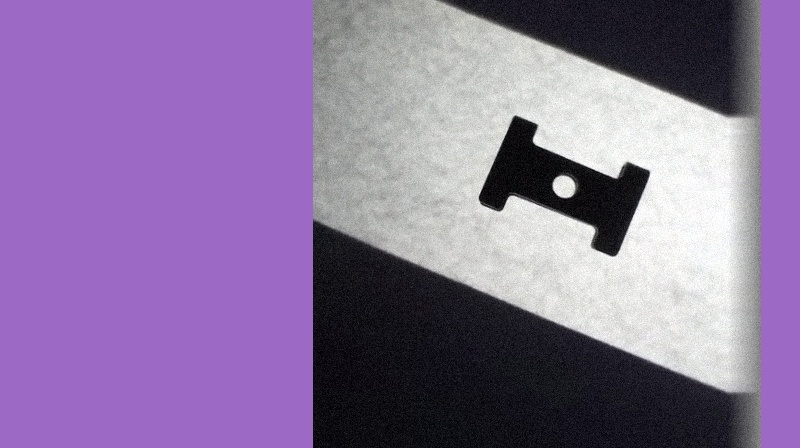O002: (476, 112, 653, 259)
